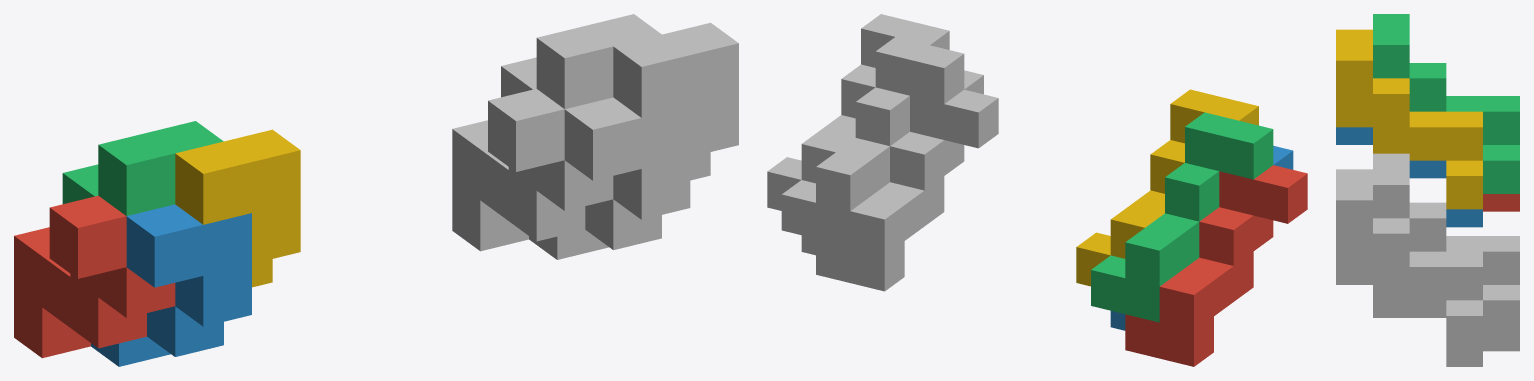
Rendered from tiling.obj.
The picture shows the model from 3 angles, left to right: view 1: azimuth 30°, elevation 25°; view 2: azimuth 150°, elevation 25°; view 3: azimuth 270°, elevation 25°; orthographic projection. The views are drawn at different scales.
Parts seen in each view (by area): view 1: copy_1_domain_5, copy_1_domain_1, copy_1_domain_6, copy_1_domain_2, copy_1_domain_8, copy_1_domain_4, copy_1_domain_3, copy_1_domain_7; view 2: copy_1_domain_1, copy_1_domain_5, copy_1_domain_7, copy_1_domain_3, copy_1_domain_4, copy_1_domain_8, copy_1_domain_2, copy_1_domain_6; view 3: copy_1_domain_8, copy_1_domain_4, copy_1_domain_7, copy_1_domain_3, copy_1_domain_6, copy_1_domain_2, copy_1_domain_5, copy_1_domain_1.
Part boxes in pixels (x1,y1,x2,y2): copy_1_domain_5: [452, 88, 613, 251]; copy_1_domain_1: [14, 195, 175, 358]; copy_1_domain_6: [529, 97, 690, 259]; copy_1_domain_2: [91, 204, 251, 366]; copy_1_domain_8: [613, 22, 738, 180]; copy_1_domain_4: [175, 129, 300, 287]; copy_1_domain_3: [62, 121, 223, 215]; copy_1_domain_7: [501, 14, 661, 108]; copy_1_domain_1: [1125, 165, 1307, 366]; copy_1_domain_5: [816, 89, 998, 291]; copy_1_domain_7: [781, 37, 964, 246]; copy_1_domain_3: [1091, 112, 1273, 322]; copy_1_domain_4: [1076, 89, 1258, 286]; copy_1_domain_8: [767, 14, 949, 210]; copy_1_domain_2: [1110, 145, 1293, 330]; copy_1_domain_6: [801, 70, 983, 255]; copy_1_domain_8: [1336, 169, 1482, 349]; copy_1_domain_4: [1336, 29, 1482, 209]; copy_1_domain_7: [1373, 153, 1519, 333]; copy_1_domain_3: [1373, 14, 1519, 193]; copy_1_domain_6: [1336, 267, 1482, 366]; copy_1_domain_2: [1336, 127, 1482, 227]; copy_1_domain_5: [1483, 333, 1519, 351]; copy_1_domain_1: [1483, 194, 1519, 211].
Size of the model in its own units: 14 by 5 by 5.
